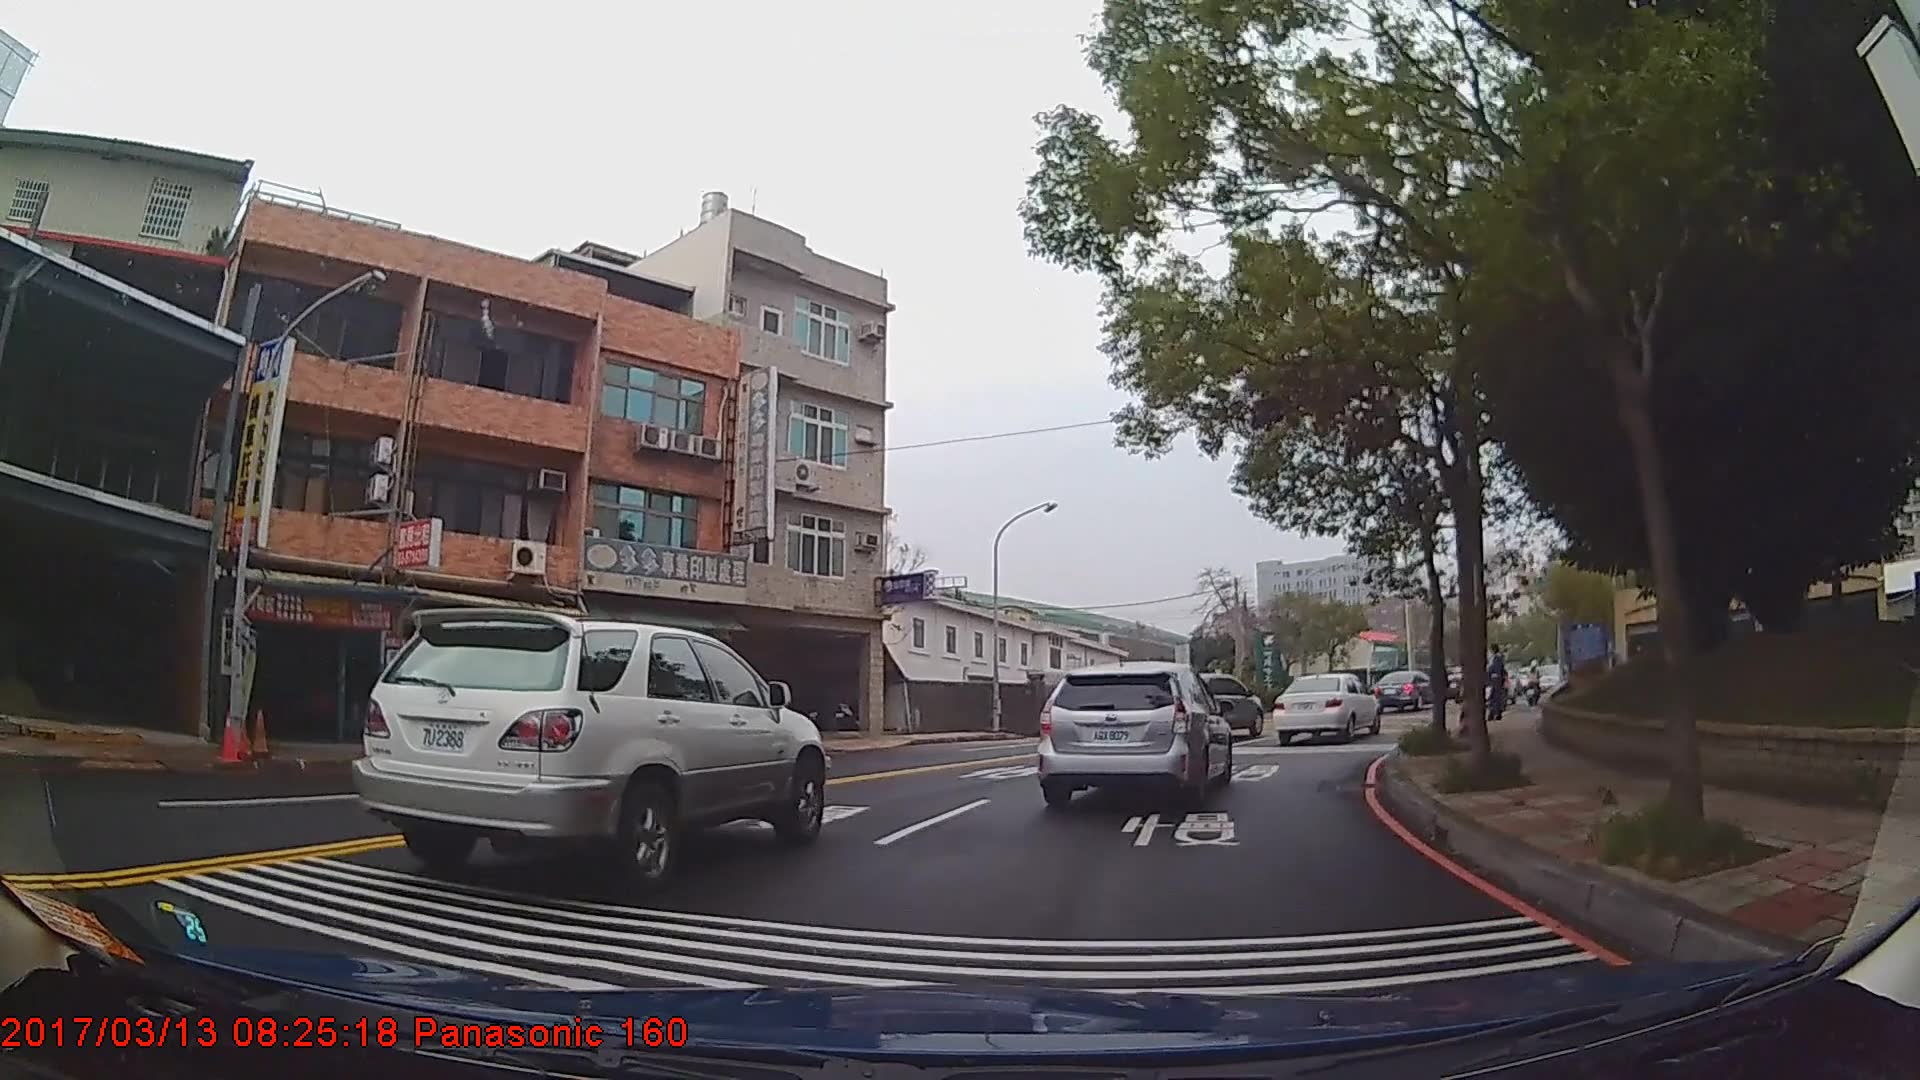vehicle: (351, 607, 827, 895), (1033, 659, 1230, 811), (1266, 671, 1378, 744), (1168, 673, 1263, 742), (1367, 667, 1435, 715)
